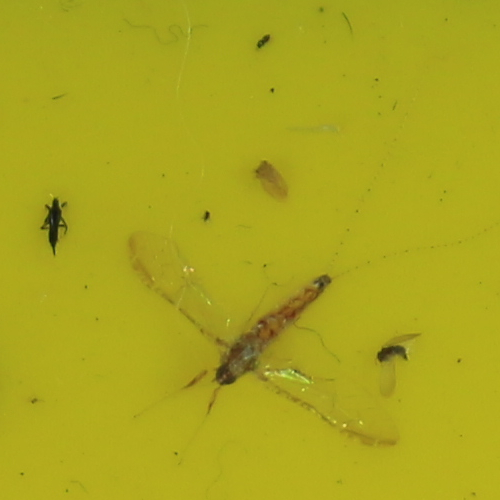psylla: (251, 160, 283, 191)
